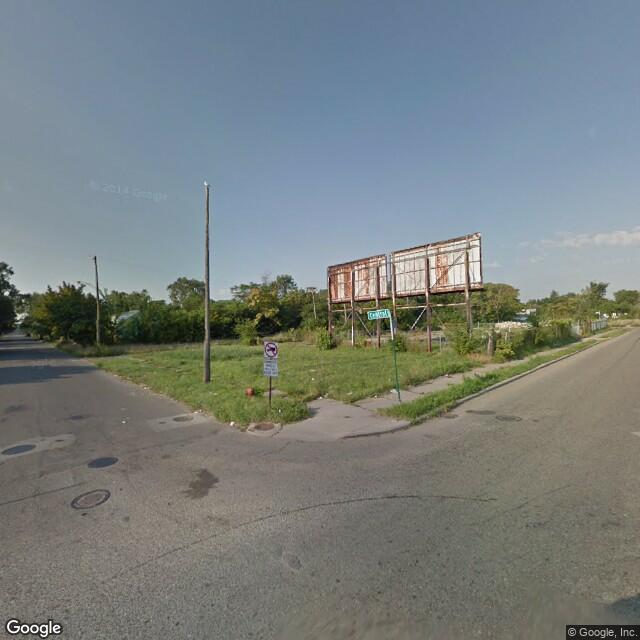litter: (186, 404, 209, 418), (223, 416, 241, 430), (386, 384, 402, 395), (314, 393, 330, 403), (303, 374, 320, 383), (274, 404, 286, 414)
